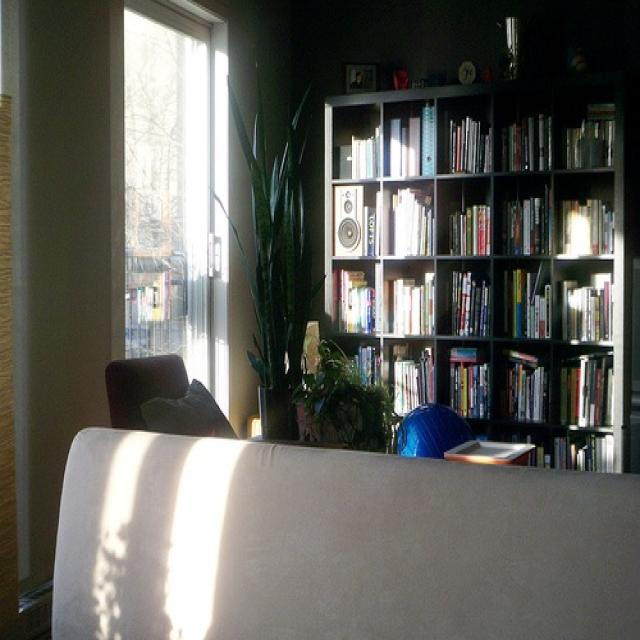chair: (105, 356, 192, 429)
pottedplant: (219, 58, 328, 442), (296, 341, 392, 453)
sofa: (50, 426, 640, 638)
